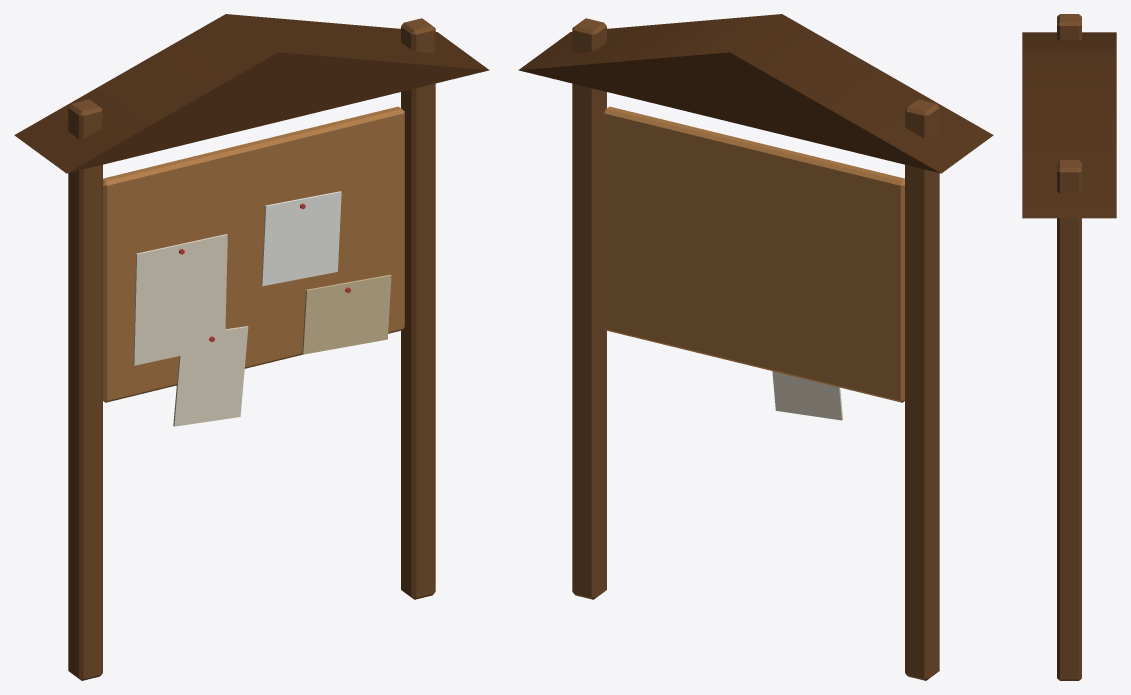
Rendered from SM_Notice_Board.glb.
3 views of the same model, side by side, from view 1: azimuth 30°, elevation 25°; view 2: azimuth 150°, elevation 25°; view 3: azimuth 270°, elevation 25° (orthographic). The views are drawn at different scales.
Visible parts, largest first — view 1: SM_Notice_Board; view 2: SM_Notice_Board; view 3: SM_Notice_Board.
Part boxes in pixels (box(x1,y1,x2,y2)): SM_Notice_Board: box(14, 14, 489, 680); SM_Notice_Board: box(518, 14, 993, 680); SM_Notice_Board: box(1022, 14, 1116, 680).
Size of the model in its own units: 1.4 by 1.9 by 0.3.
Materials: 1 (1 with a texture image).
